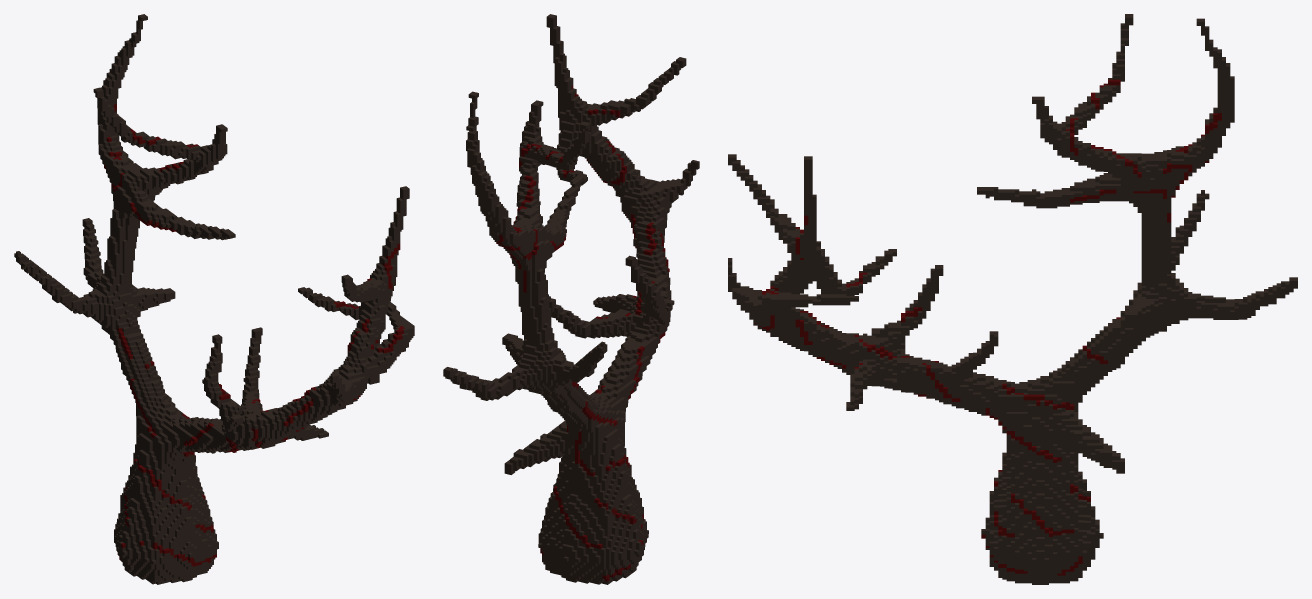
File: bad-18.obj
3 renders of one model, left to right at view 1: azimuth 30°, elevation 25°; view 2: azimuth 150°, elevation 25°; view 3: azimuth 270°, elevation 25°, orthographic. The views are drawn at different scales.
Size of the model in its own units: 7.1 by 15.1 by 13.5.
Materials: 1 (1 with a texture image).
